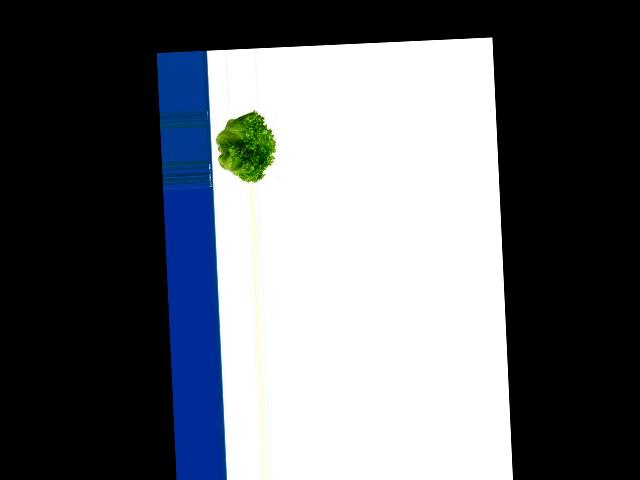lettuce: (210, 112, 279, 184)
